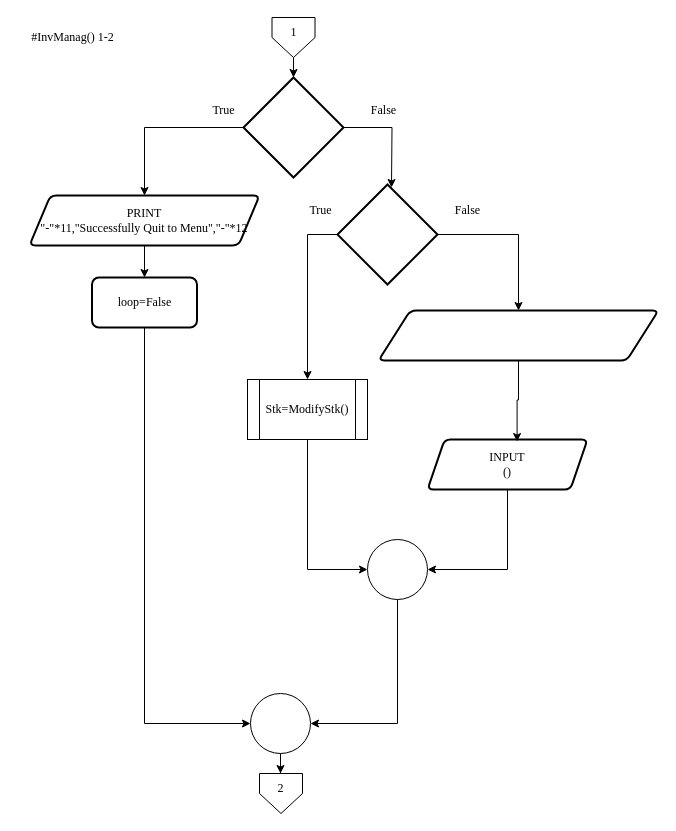
Some shapes in this 676 by 831 pixel diagram are drawn without their labels. The centre of each missing label's shape, as x and y in pixels:
opt=="M": [387,234]
opt=="Q": [293,127]
PRINT "-"*10,"Invalid Option, Pls Try Again","-"*10: [518,335]
